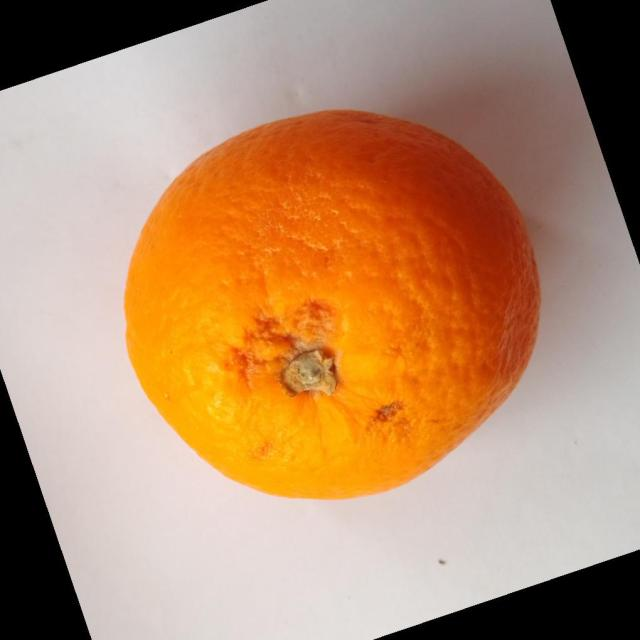fresh orange: (123, 107, 542, 501)
